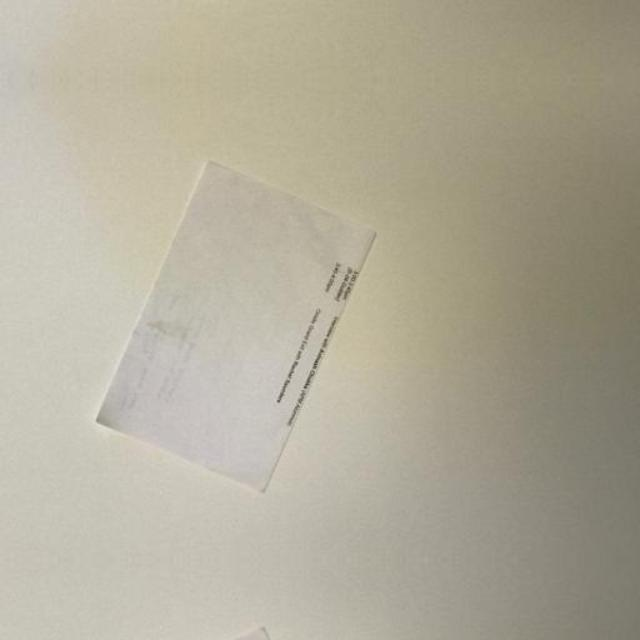paper: (90, 142, 386, 504), (90, 616, 385, 640), (90, 0, 385, 18)
